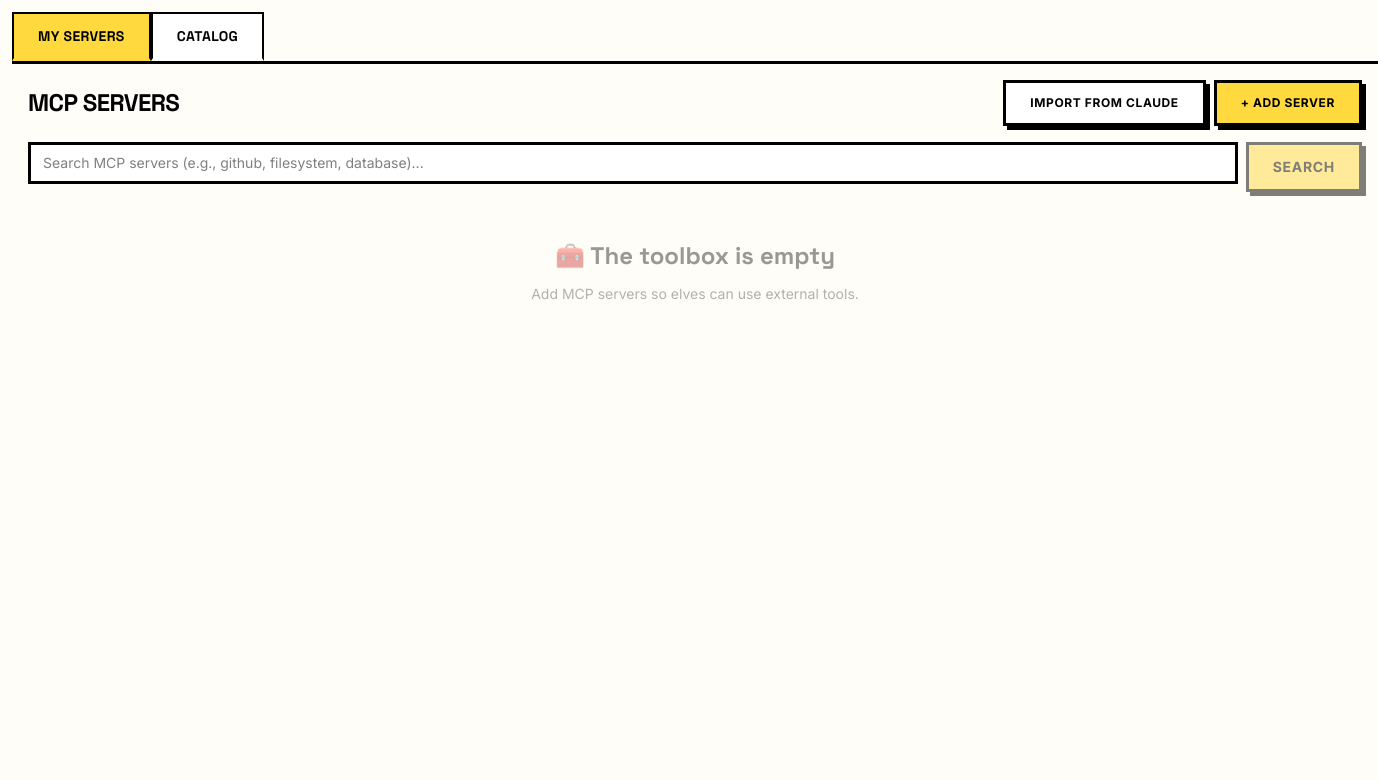
Test: McpManager › shows add form fields
Click the button "+ Add Server". click: (1288, 103)
box: [1214,80,1362,126]
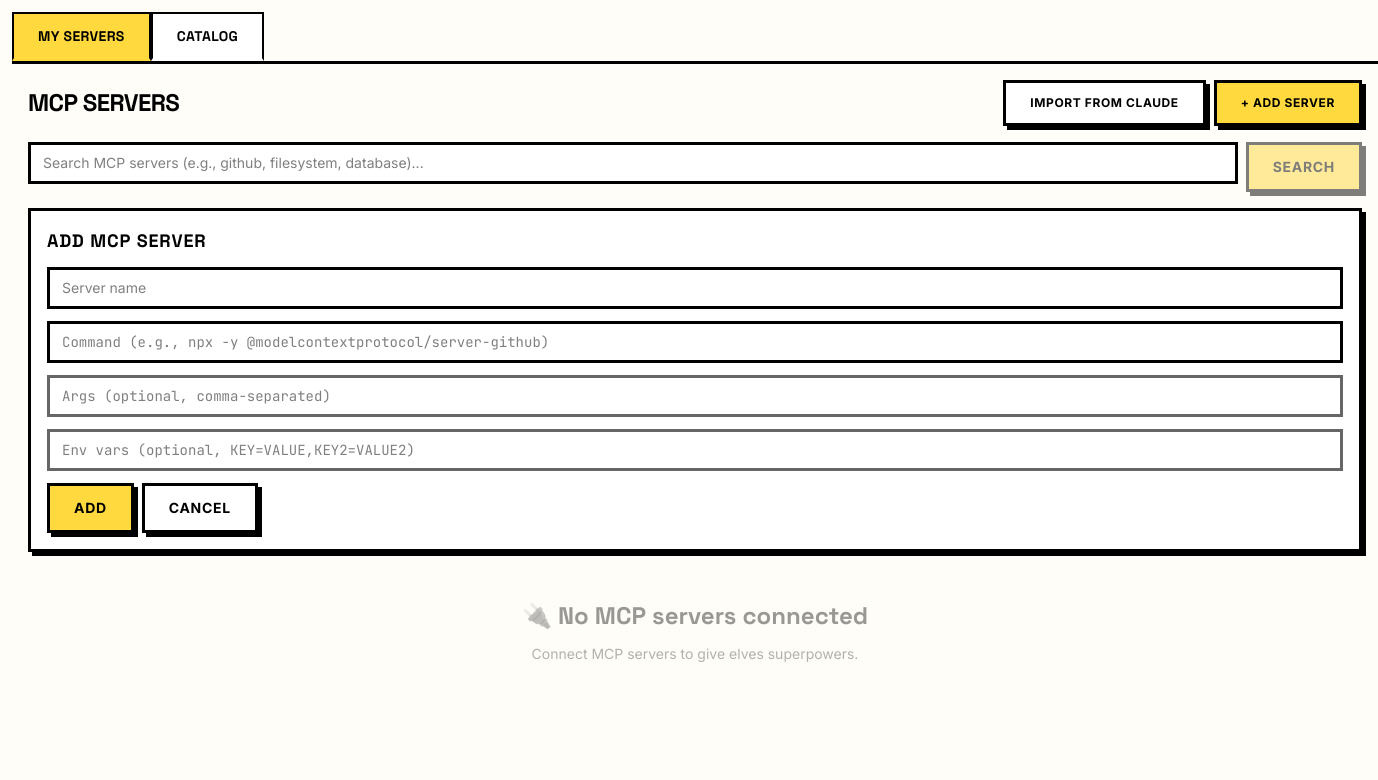
Expected: the field with test id "mcp-add-name" is shown, [47,267,1343,309]
Expected: the field with test id "mcp-add-command" is shown, [47,321,1343,363]
Expected: the field with test id "mcp-add-args" is shown, [47,375,1343,417]
